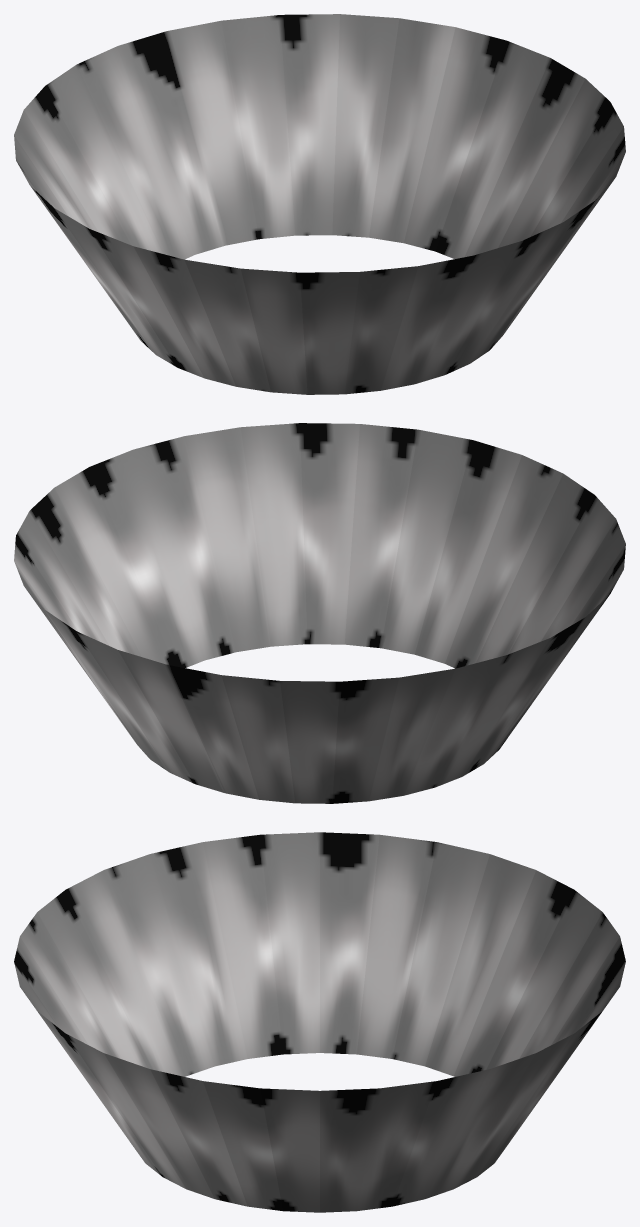
File: jumpeffe.fbx
3 renders of one model, top to bottom at view 1: azimuth 30°, elevation 25°; view 2: azimuth 150°, elevation 25°; view 3: azimuth 270°, elevation 25°, orthographic.
Visible parts, largest first — view 1: 円柱; view 2: 円柱; view 3: 円柱.
Boxes of the visible parts, x1,y1,x2,y2 form: 円柱: (14, 14, 625, 394); 円柱: (14, 423, 625, 803); 円柱: (14, 832, 625, 1212).
Size of the model in its own units: 324 by 100 by 324.
